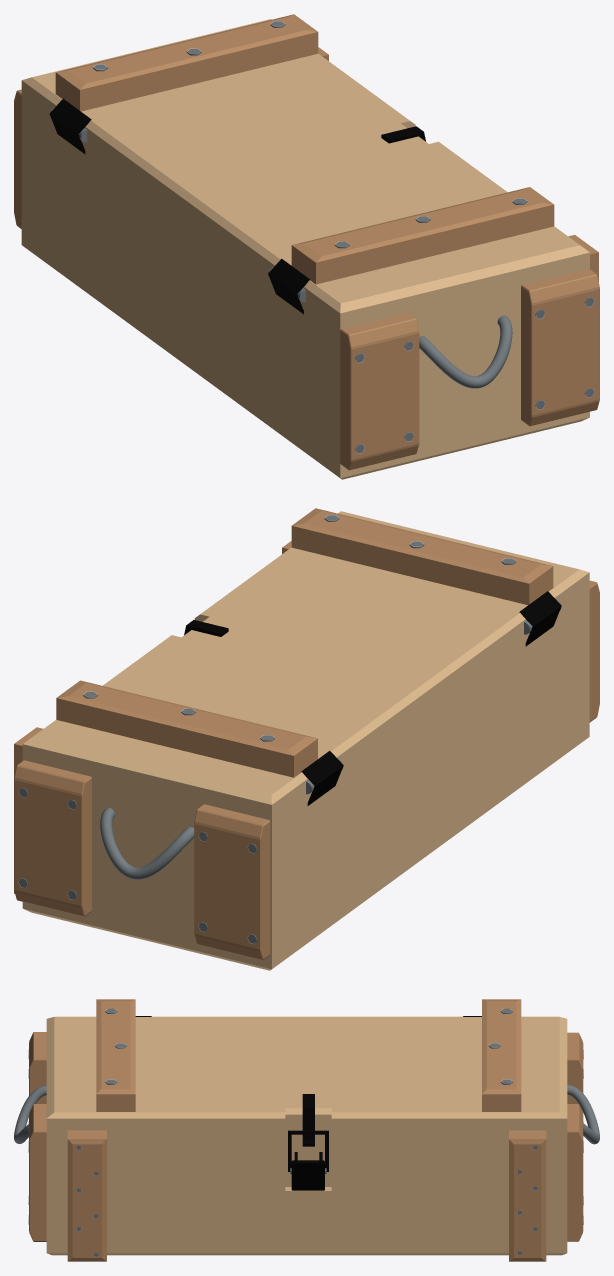
File: LongCrate.fbx
The picture shows the model from 3 angles, top to bottom: view 1: azimuth 30°, elevation 25°; view 2: azimuth 150°, elevation 25°; view 3: azimuth 270°, elevation 25°; orthographic projection. The views are drawn at different scales.
Visible parts, largest first — view 1: Plane.001, cable.001; view 2: Plane.001, cable.001; view 3: Plane.001, cable.001.
Boxes of the visible parts, <box> form: Plane.001: <box>14,14,599,479</box>; cable.001: <box>419,315,512,388</box>; Plane.001: <box>14,508,599,970</box>; cable.001: <box>100,807,194,879</box>; Plane.001: <box>28,999,583,1261</box>; cable.001: <box>14,1084,599,1144</box>.
Size of the model in its own units: 177 by 120 by 390.
